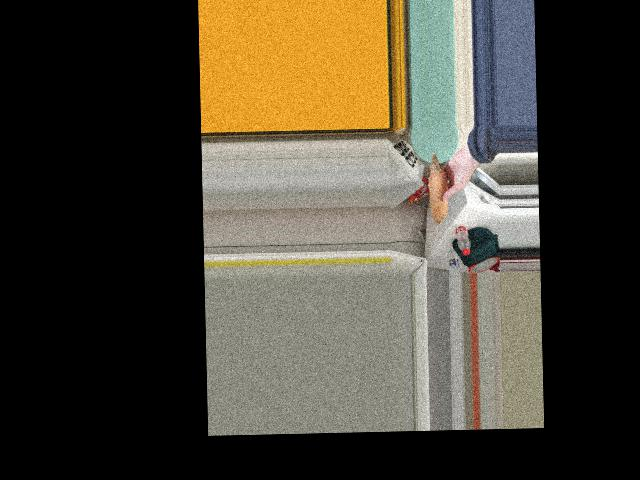sweet_potato: (428, 158, 451, 215)
